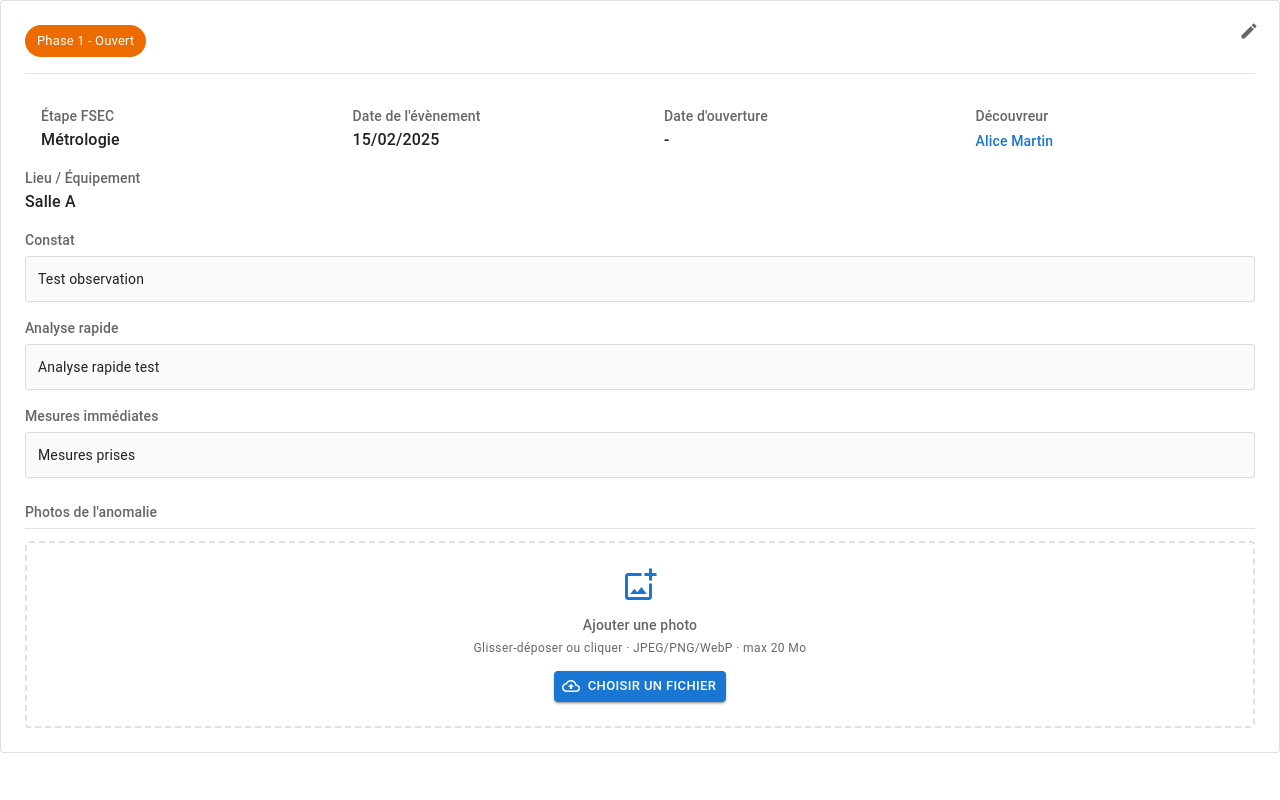
Scenario: PhaseOuvertSection › Edit Mode › should pre-fill discoverer combobox from the FK (discovererUserUuid)
Click the button named "Modifier les informations de la Phase 1 Ouvert" at (1249, 31), box x1=1231 y1=13 x2=1267 y2=49
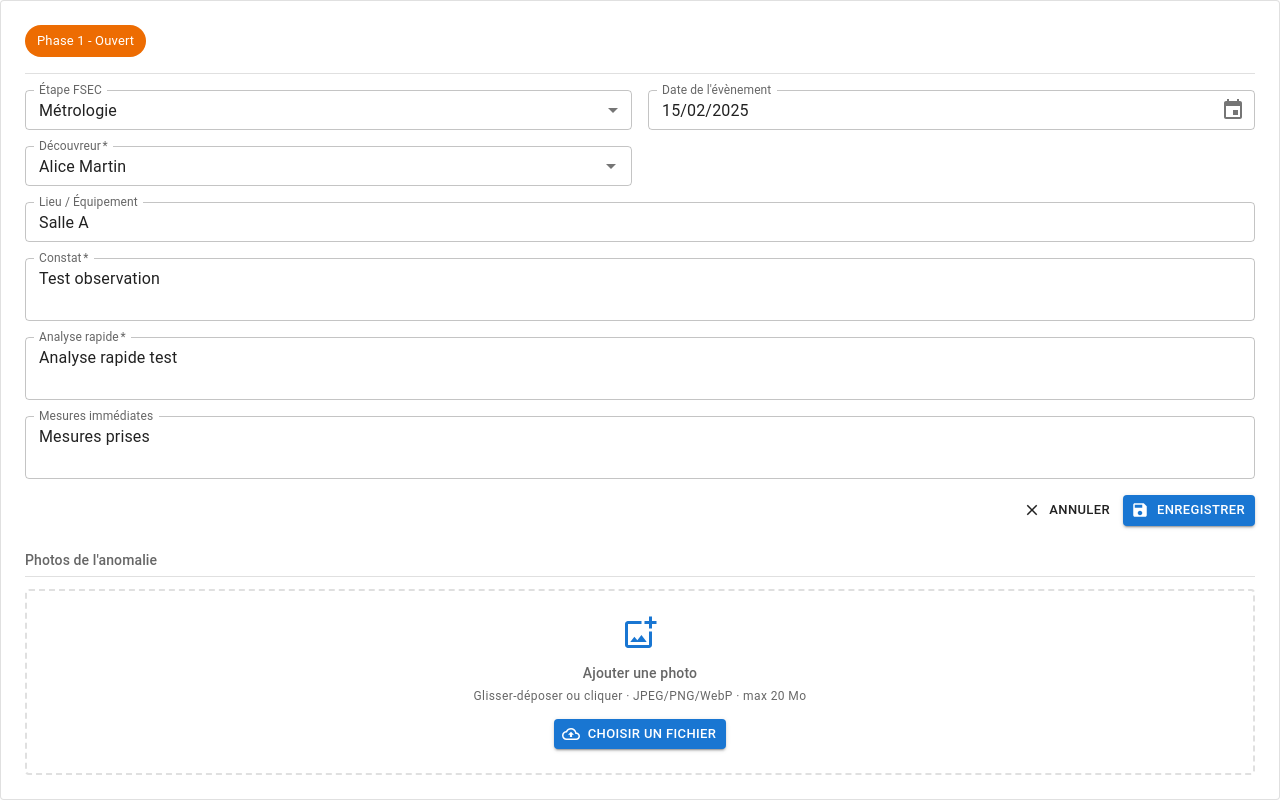
expect the dropdown labelled "Découvreur *" holds "Alice Martin": met, box x1=31 y1=152 x2=567 y2=180
